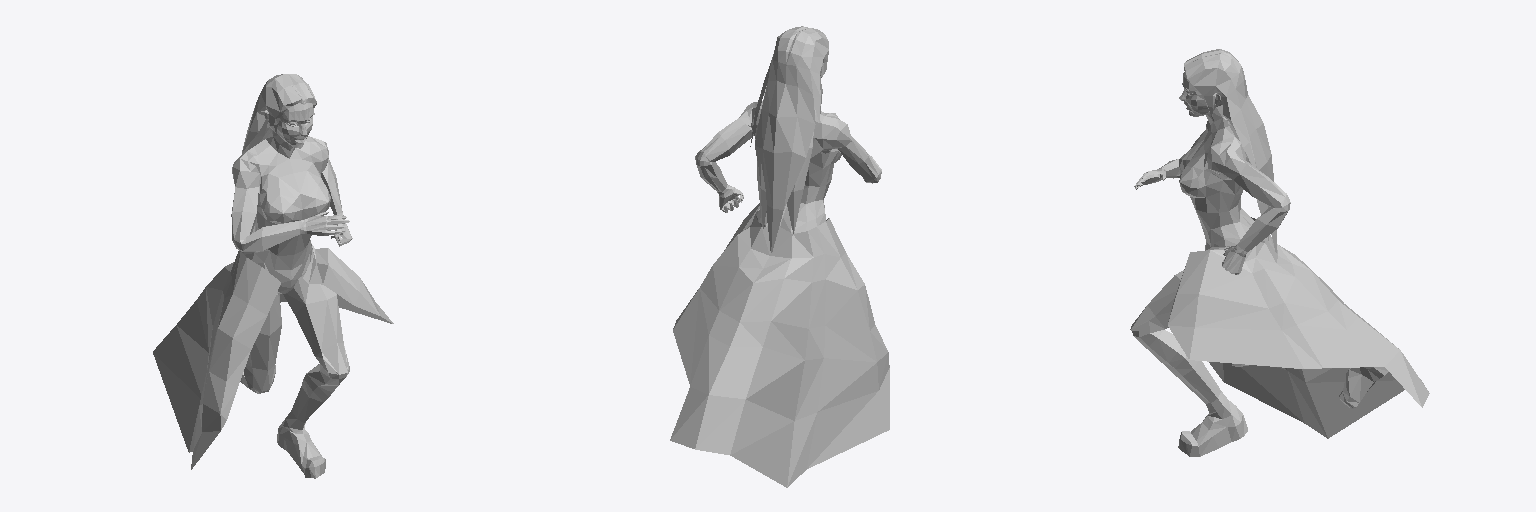
File: running_007.obj
The picture shows the model from 3 angles: view 1: azimuth 30°, elevation 25°; view 2: azimuth 150°, elevation 25°; view 3: azimuth 270°, elevation 25°; orthographic projection.
Parts seen in each view (by area): view 1: Plane.001_Plane.007, Plane.003_Plane.008, capelli.001_Plane.006; view 2: Plane.003_Plane.008, capelli.001_Plane.006, Plane.001_Plane.007; view 3: Plane.003_Plane.008, Plane.001_Plane.007, capelli.001_Plane.006.
Boxes of the visible parts, box(x1,y1,x2,y2) form: Plane.001_Plane.007: box(231, 84, 352, 478); Plane.003_Plane.008: box(153, 243, 393, 469); capelli.001_Plane.006: box(242, 74, 316, 232); Plane.003_Plane.008: box(670, 203, 889, 487); capelli.001_Plane.006: box(750, 26, 828, 252); Plane.001_Plane.007: box(695, 66, 881, 233); Plane.003_Plane.008: box(1168, 217, 1429, 438); Plane.001_Plane.007: box(1130, 57, 1388, 456); capelli.001_Plane.006: box(1184, 49, 1276, 252).
Bounding box in the file's own units: 2.41 × 5.04 × 3.35.